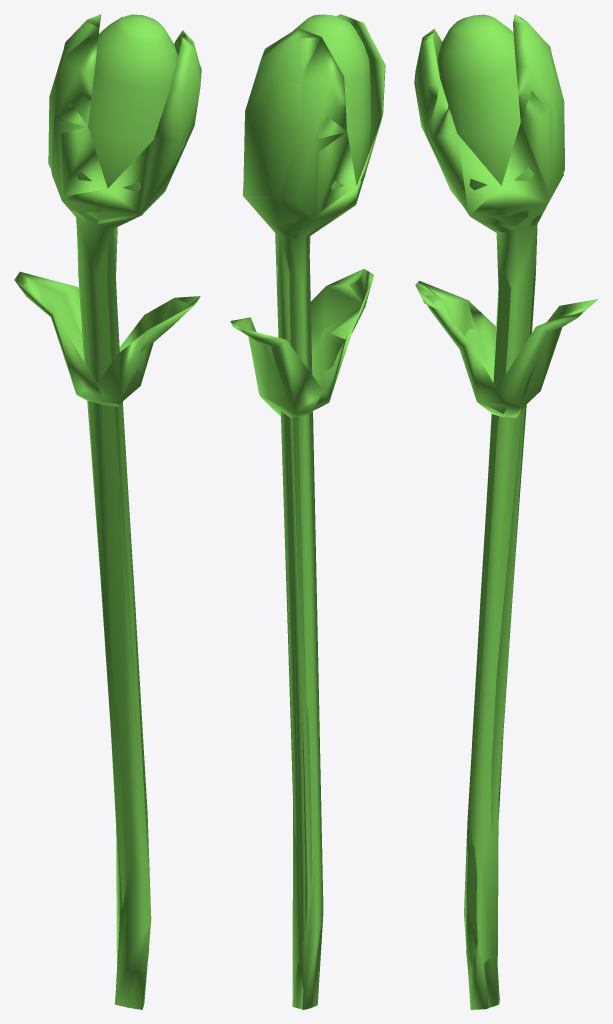
The model's file is CornPlant.fbx.
3 views of the same model, side by side, from view 1: azimuth 90°, elevation 25°; view 2: azimuth 150°, elevation 25°; view 3: azimuth 270°, elevation 25° (orthographic).
Visible parts, largest first — view 1: Sphere.005, Sphere.004; view 2: Sphere.005, Sphere.004; view 3: Sphere.005, Sphere.004.
Boxes of the visible parts, bbox=[...] form: Sphere.005: bbox=[14, 14, 201, 1009]; Sphere.004: bbox=[77, 14, 178, 192]; Sphere.005: bbox=[230, 14, 385, 1009]; Sphere.004: bbox=[292, 14, 371, 190]; Sphere.005: bbox=[414, 14, 597, 1009]; Sphere.004: bbox=[437, 14, 533, 190].
Bounding box in the file's own units: 281 × 2461 × 419.
